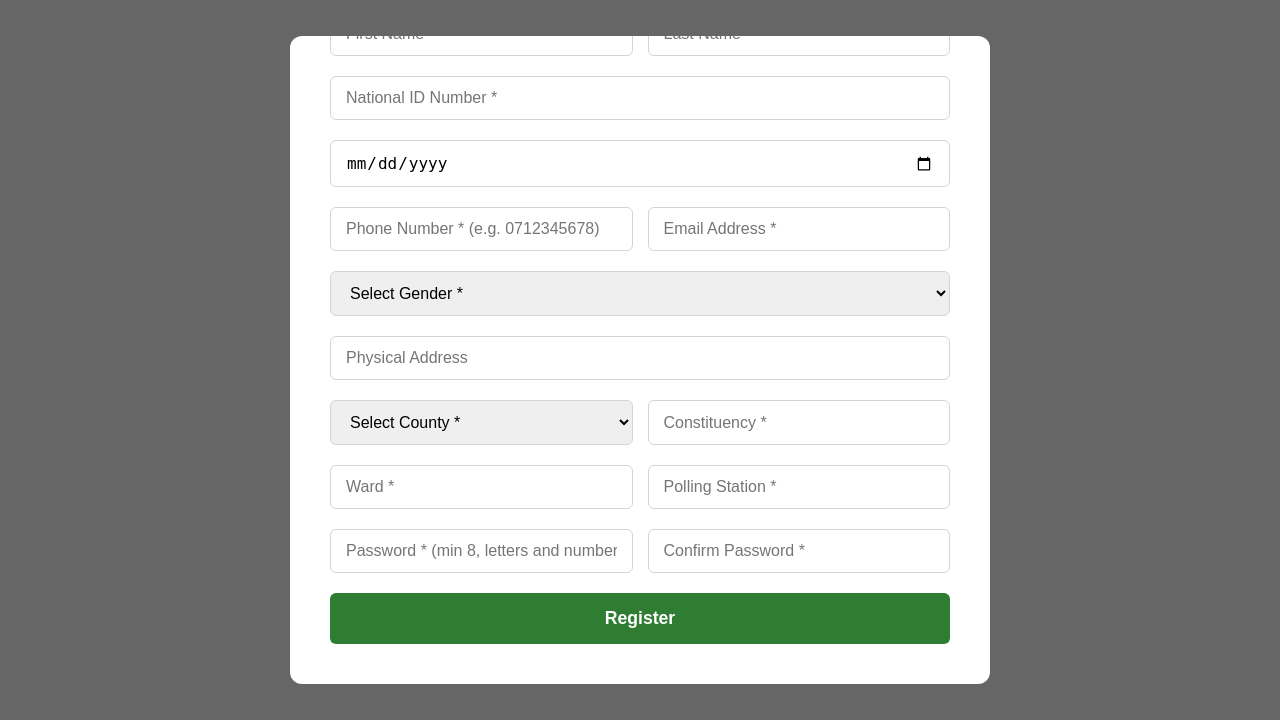
Scenario: registration stops when the passwords do not match
(page scrolled)
Type "Password123" into the password field named "password".
click(481, 551); type("Password123")  # box [330, 529, 632, 573]
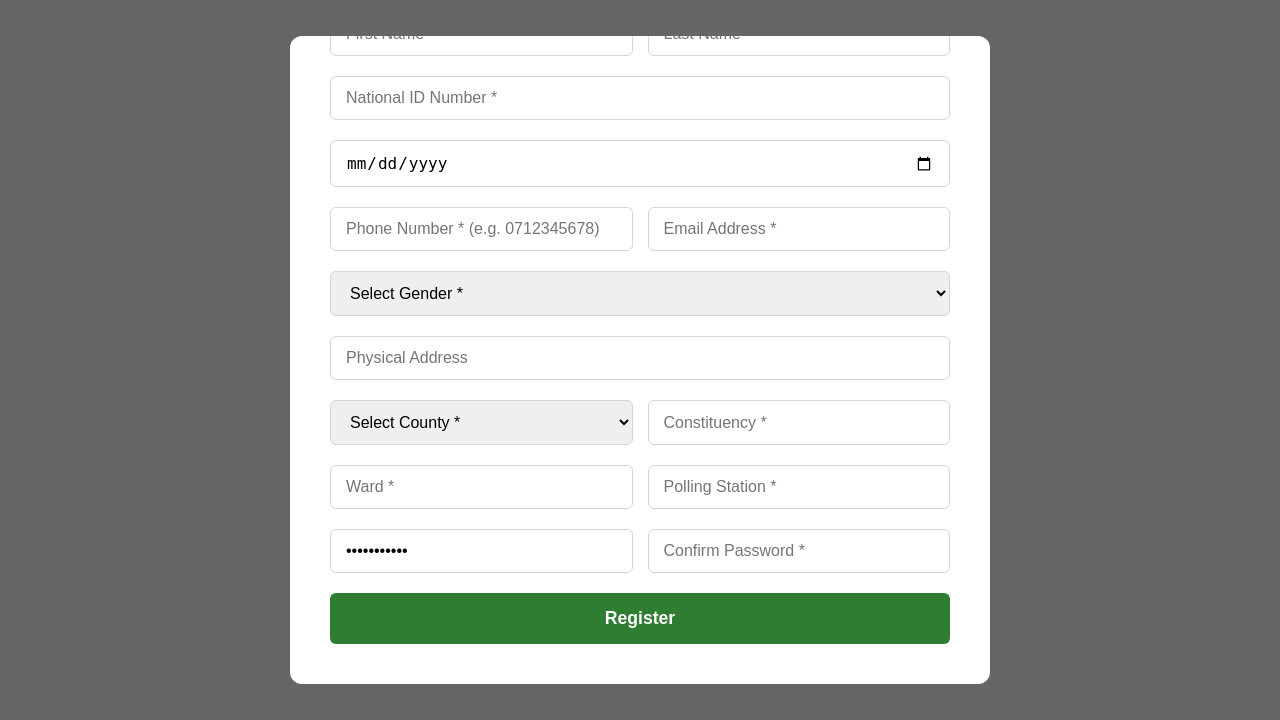
Type "Password124" into the password field named "confirmPassword".
click(799, 551); type("Password124")  # box [648, 529, 950, 573]
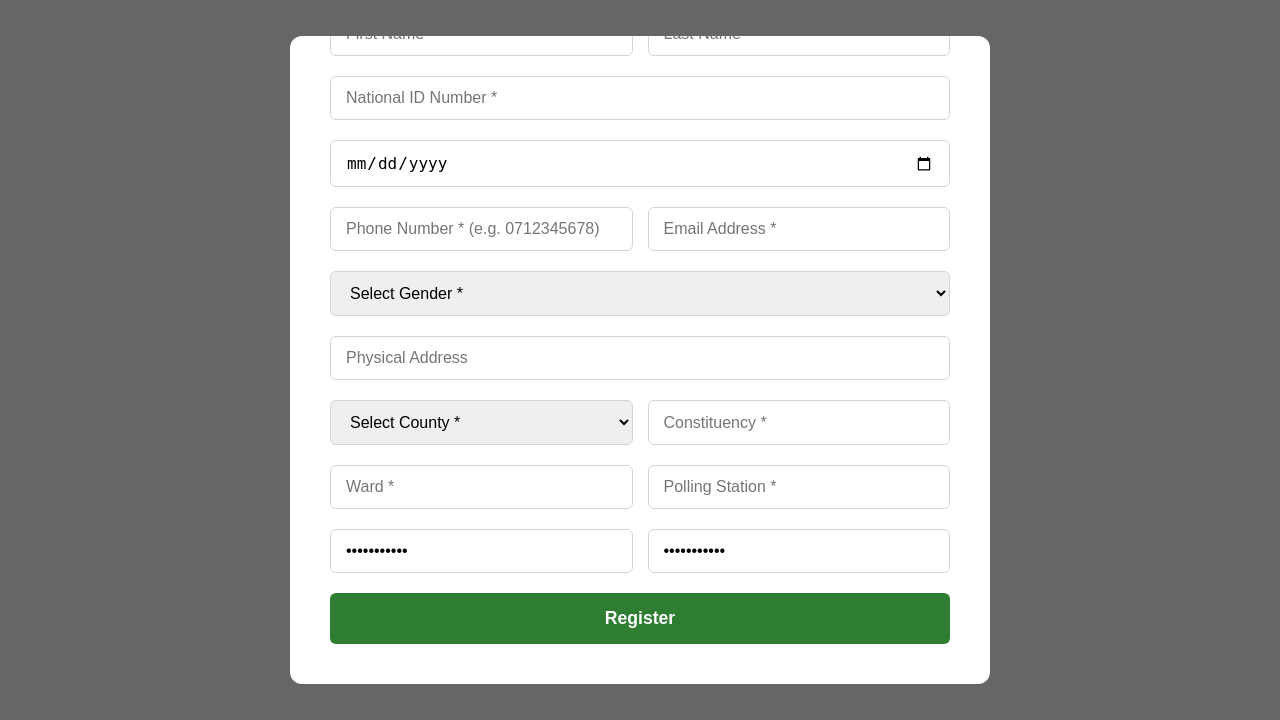
Submit the form, box [330, 12, 950, 644]
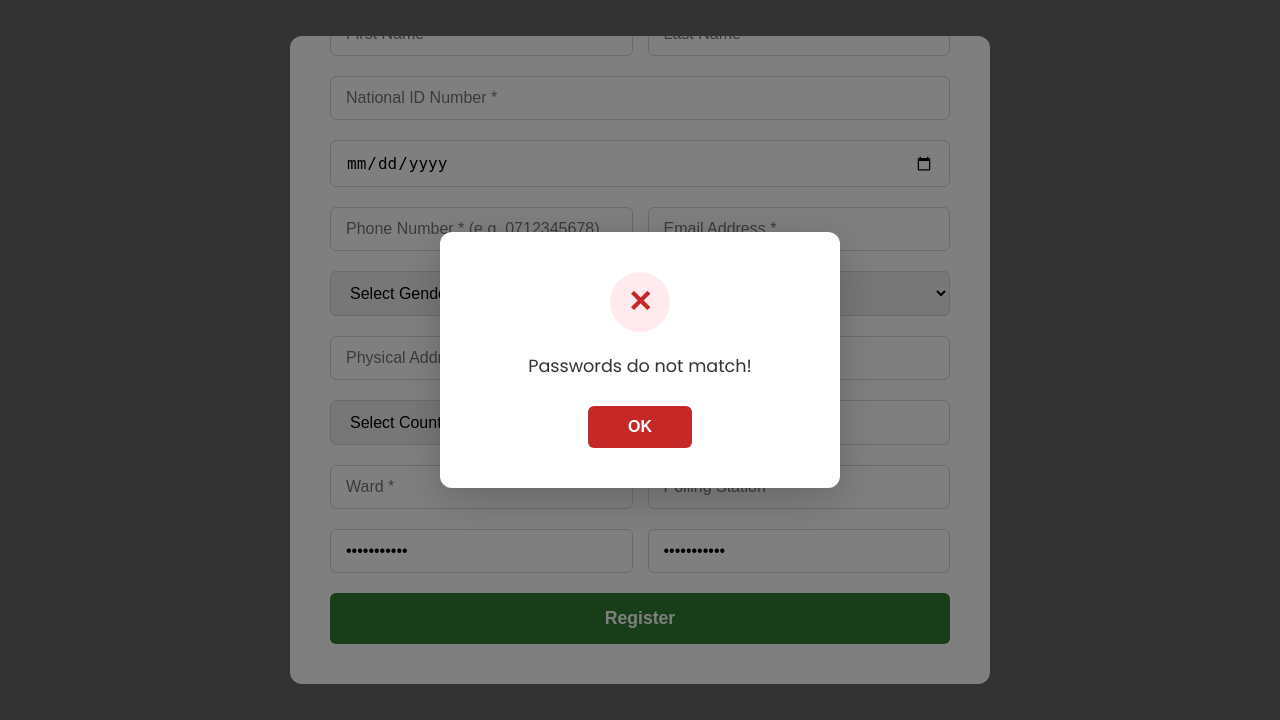
Now the text "Passwords do not match!" is shown, box [528, 354, 752, 378]
